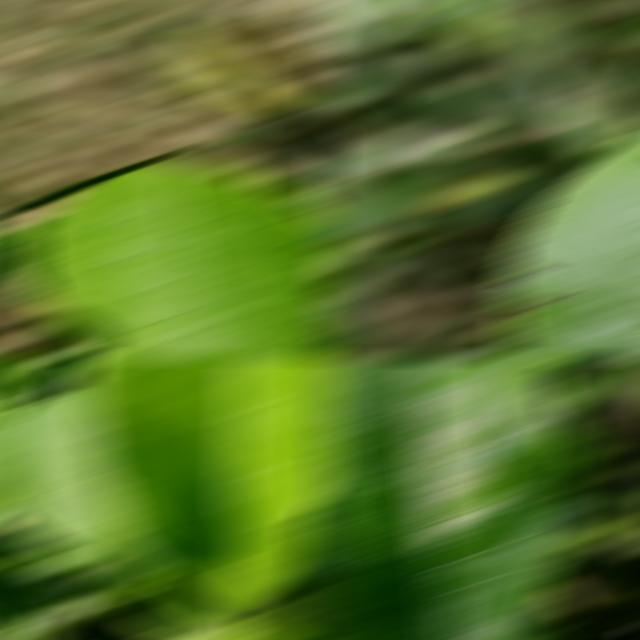Leaf: (317, 361, 585, 637), (72, 361, 335, 624), (25, 164, 335, 355), (497, 135, 640, 355), (0, 399, 160, 580), (163, 28, 300, 111), (493, 9, 576, 88), (348, 170, 456, 228), (0, 230, 49, 297), (586, 23, 640, 43)
